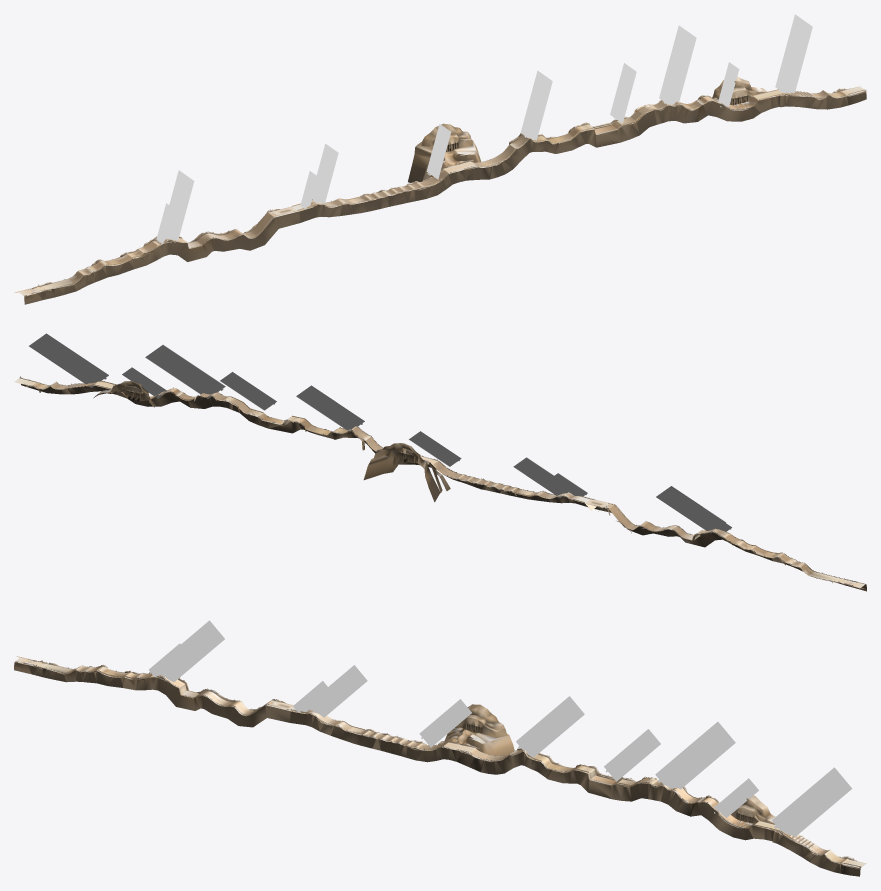
Rendered from Desert_14.fbx.
3 renders of one model, top to bottom at view 1: azimuth 30°, elevation 25°; view 2: azimuth 150°, elevation 25°; view 3: azimuth 330°, elevation 25°, orthographic.
Visible parts, largest first — view 1: Mountain_01, Light_01, Road_01, Ground_01, Tree_01; view 2: Light_01, Mountain_01, Road_01, Ground_01, Tree_01; view 3: Mountain_01, Light_01, Road_01, Ground_01, Tree_01.
Boxes of the visible parts, box(x1,y1,x2,y2) form: Mountain_01: box(23, 76, 866, 304); Light_01: box(156, 14, 812, 243); Road_01: box(19, 87, 863, 295); Ground_01: box(23, 86, 860, 295); Tree_01: box(31, 88, 866, 293); Light_01: box(29, 333, 731, 533); Mountain_01: box(21, 381, 866, 591); Road_01: box(15, 378, 864, 587); Ground_01: box(14, 381, 865, 588); Tree_01: box(20, 376, 857, 584); Mountain_01: box(14, 661, 861, 876); Light_01: box(149, 620, 852, 836); Road_01: box(16, 657, 865, 866); Ground_01: box(16, 661, 866, 863); Tree_01: box(23, 660, 860, 869).
Bounding box in the file's own units: 139717 × 15629 × 7460.
